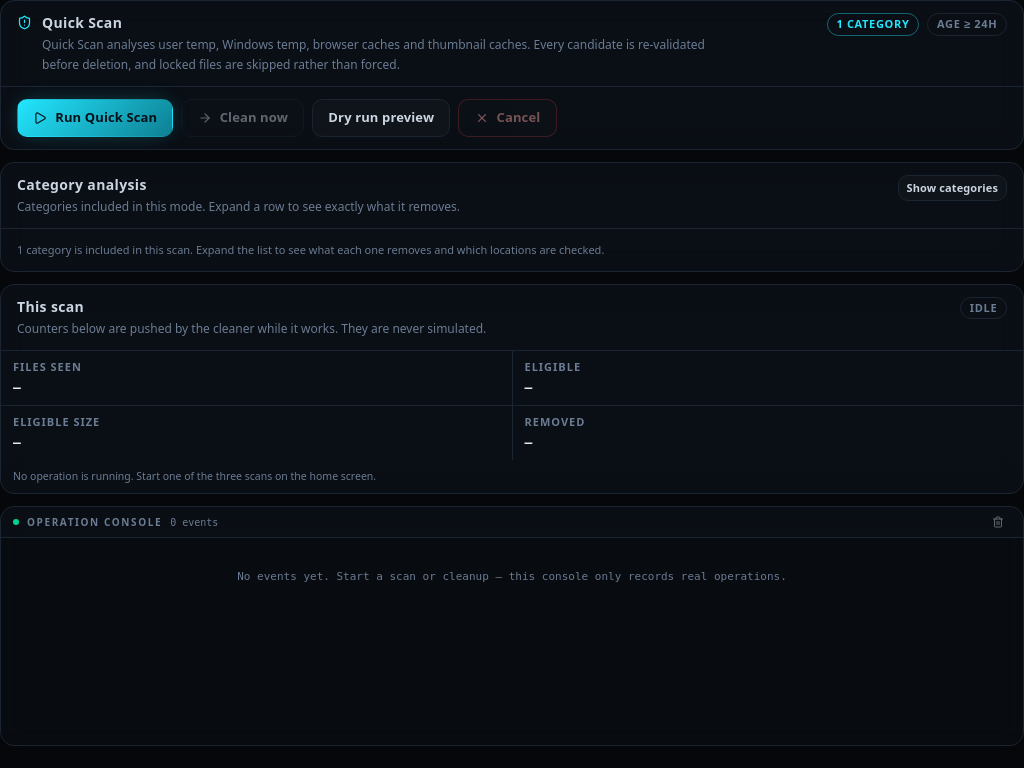
Clean page flow › renders the dry-run preview without deleting
Click the button "Dry run preview": (381, 118) x1=312 y1=99 x2=450 y2=136
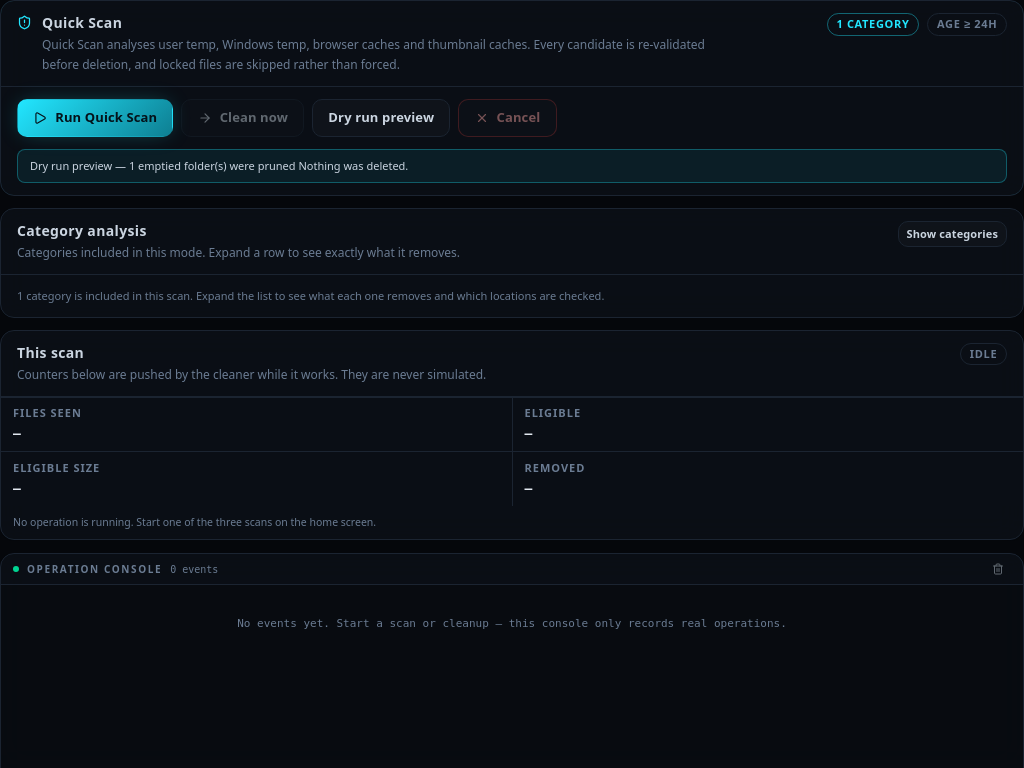
Expected: the text "Nothing was deleted" is shown, x1=30 y1=158 x2=408 y2=172
